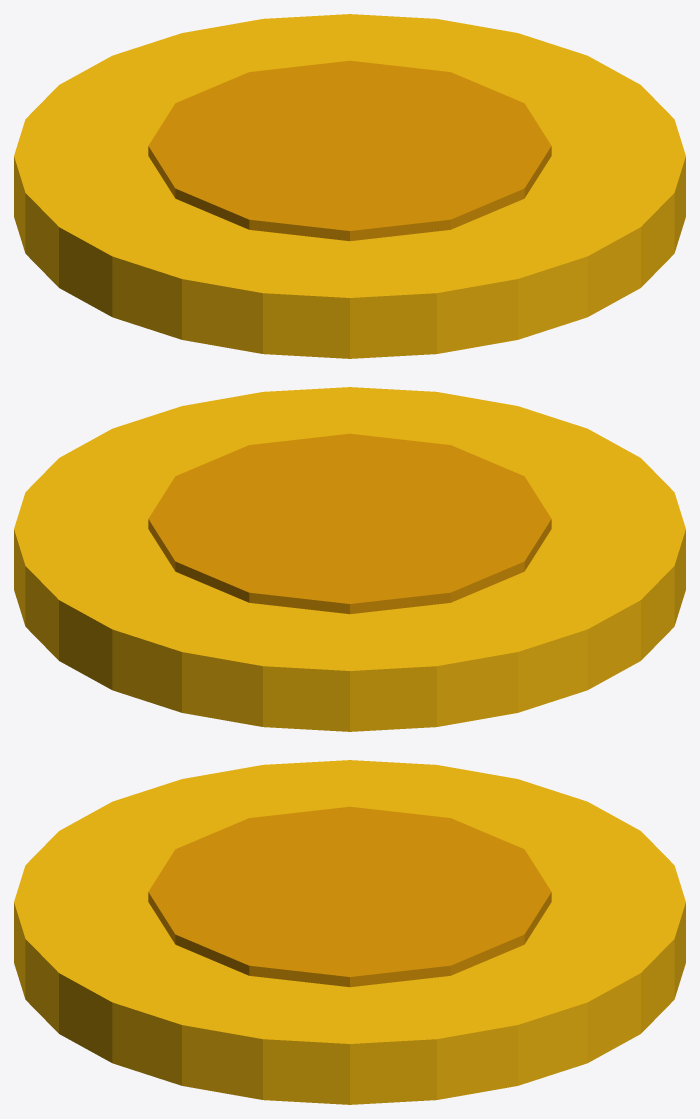
File: coin.glb
3 views of the same model, one above another, from view 1: azimuth 30°, elevation 25°; view 2: azimuth 150°, elevation 25°; view 3: azimuth 270°, elevation 25° (orthographic).
Visible parts, largest first — view 1: Coin; view 2: Coin; view 3: Coin.
Boxes of the visible parts, x1,y1,x2,y2 form: Coin: (14,14,685,358); Coin: (14,387,685,731); Coin: (14,760,685,1104).
Bounding box in the file's own units: 0.3 × 0.04 × 0.3.
